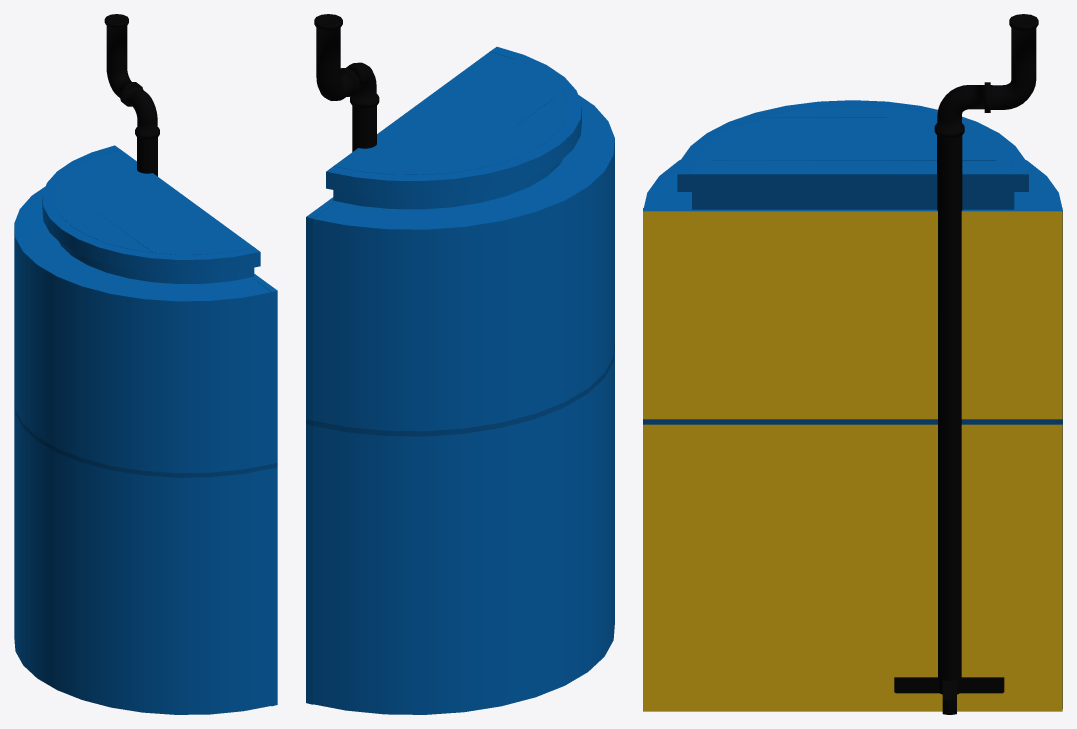
Rendered from Pengaduk.fbx.
3 views of the same model, side by side, from view 1: azimuth 30°, elevation 25°; view 2: azimuth 150°, elevation 25°; view 3: azimuth 270°, elevation 25° (orthographic). The views are drawn at different scales.
Visible parts, largest first — view 1: 1/2 Digester, 1/2 Plane, Pegangan Pengaduk II, Pegangan Pengaduk I, Pengaduk 1/2; view 2: 1/2 Digester, 1/2 Plane, Pegangan Pengaduk II, Pengaduk 1/2, Pegangan Pengaduk I; view 3: 1/2 Plane, 1/2 Digester, Pengaduk 1/2, Pegangan Pengaduk II, Pegangan Pengaduk I.
Boxes of the visible parts, x1,y1,x2,y2 form: 1/2 Digester: [14, 145, 271, 714]; 1/2 Plane: [123, 231, 277, 706]; Pegangan Pengaduk II: [104, 14, 143, 106]; Pegangan Pengaduk I: [124, 85, 159, 139]; Pengaduk 1/2: [137, 137, 157, 249]; 1/2 Digester: [309, 46, 614, 714]; 1/2 Plane: [306, 197, 336, 704]; Pegangan Pengaduk II: [314, 14, 360, 100]; Pengaduk 1/2: [352, 105, 376, 151]; Pegangan Pengaduk I: [346, 62, 379, 108]; 1/2 Plane: [643, 208, 1062, 711]; 1/2 Digester: [644, 100, 1062, 708]; Pengaduk 1/2: [894, 135, 1004, 714]; Pegangan Pengaduk II: [984, 14, 1038, 112]; Pegangan Pengaduk I: [934, 85, 984, 138].
Bounding box in the file's own units: 160 × 453 × 250.
